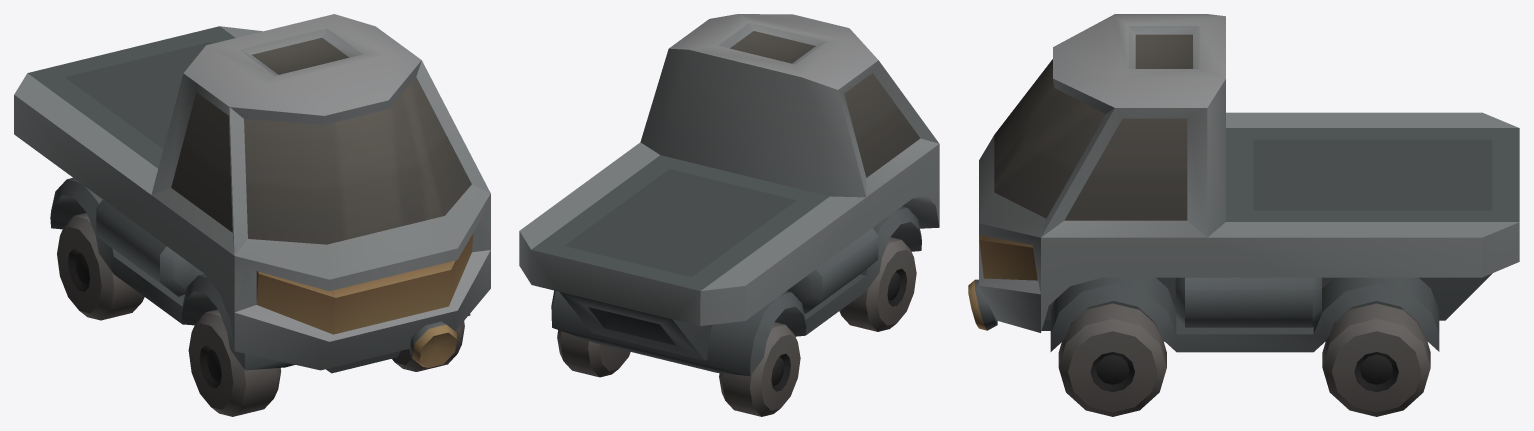
The model's file is truck-_Q_8rHpV.glb.
3 views of the same model, side by side, from view 1: azimuth 30°, elevation 25°; view 2: azimuth 150°, elevation 25°; view 3: azimuth 270°, elevation 25° (orthographic). The views are drawn at different scales.
Parts seen in each view (by area): view 1: Cube.15125, spacetruck_wheel_front_right, spacetruck_wheel_rear_right, spacetruck_wheel_front_left; view 2: Cube.15125, spacetruck_wheel_rear_right, spacetruck_wheel_front_right, spacetruck_wheel_rear_left; view 3: Cube.15125, spacetruck_wheel_front_left, spacetruck_wheel_rear_left.
Boxes of the visible parts, left/top/right/bottom form: Cube.15125: left=14, top=14, right=490, bottom=373; spacetruck_wheel_front_right: left=188, top=309, right=281, bottom=416; spacetruck_wheel_rear_right: left=57, top=213, right=144, bottom=320; spacetruck_wheel_front_left: left=392, top=321, right=464, bottom=371; Cube.15125: left=519, top=14, right=939, bottom=375; spacetruck_wheel_rear_right: left=719, top=322, right=800, bottom=416; spacetruck_wheel_front_right: left=839, top=237, right=916, bottom=331; spacetruck_wheel_rear_left: left=557, top=330, right=630, bottom=377; Cube.15125: left=968, top=14, right=1519, bottom=352; spacetruck_wheel_front_left: left=1058, top=303, right=1166, bottom=416; spacetruck_wheel_rear_left: left=1322, top=303, right=1430, bottom=416.
Bounding box in the file's own units: 0.4895 × 0.5662 × 0.8933.
1 material, 1 textured.
